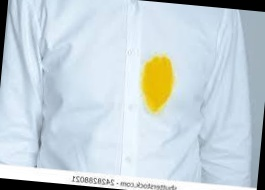mustard: (140, 55, 181, 117)
